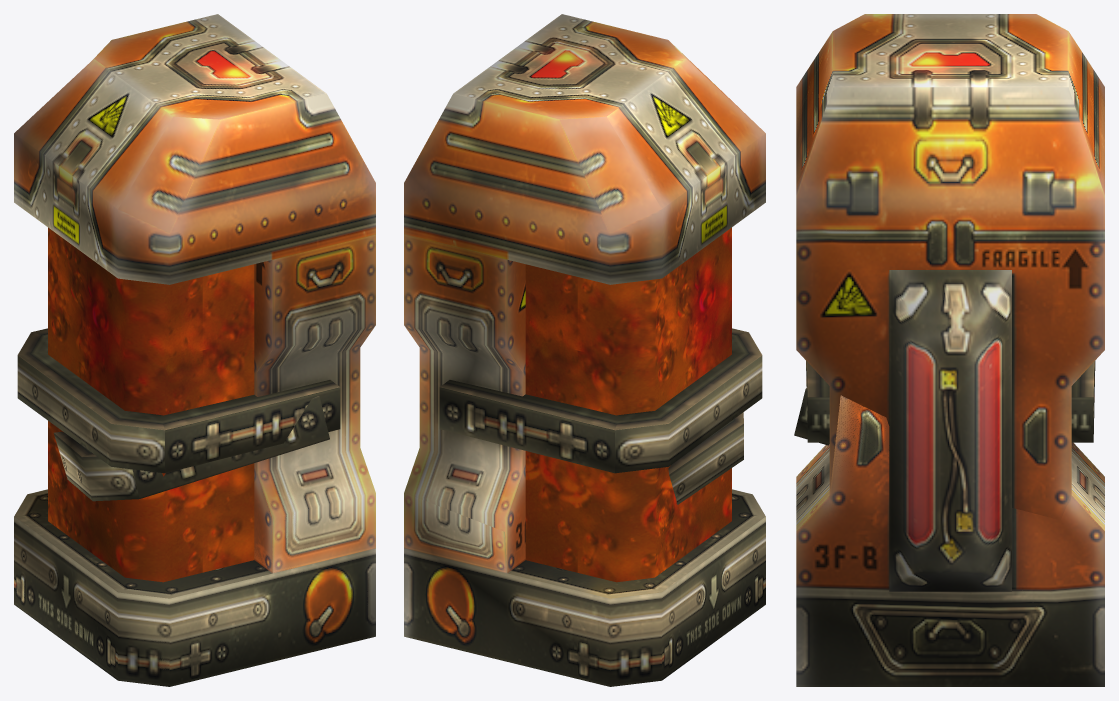
The model's file is explo_container.FBX.
3 views of the same model, side by side, from view 1: azimuth 30°, elevation 25°; view 2: azimuth 150°, elevation 25°; view 3: azimuth 270°, elevation 25° (orthographic). The views are drawn at different scales.
Parts seen in each view (by area): view 1: complete, hit_target, destroyed; view 2: complete, hit_target, destroyed; view 3: complete, destroyed.
Part boxes in pixels (<box>): complete: <box>14,14,375,686</box>; hit_target: <box>48,227,254,582</box>; destroyed: <box>14,396,375,686</box>; complete: <box>404,14,765,680</box>; hit_target: <box>525,227,731,582</box>; destroyed: <box>404,412,765,686</box>; complete: <box>796,14,1104,591</box>; destroyed: <box>794,387,1104,686</box>.
Size of the model in its own units: 92.71 by 173 by 83.74.
Materials: 2 (2 with a texture image).
